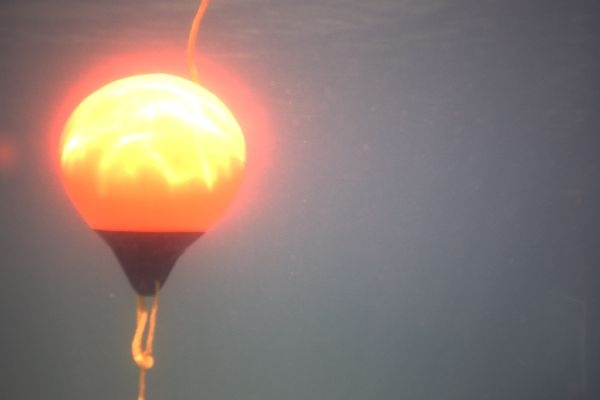buoy: (58, 73, 247, 293)
